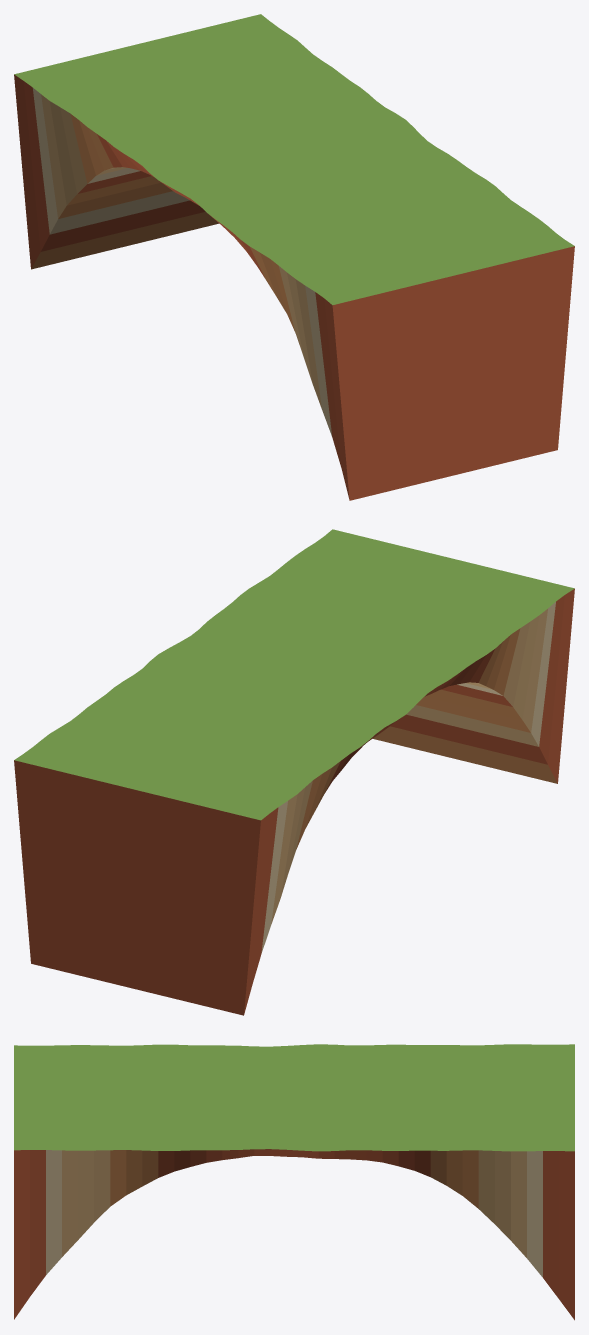
Rendered from ponte_01d0.glb.
3 renders of one model, top to bottom at view 1: azimuth 30°, elevation 25°; view 2: azimuth 150°, elevation 25°; view 3: azimuth 270°, elevation 25°, orthographic. The views are drawn at different scales.
Parts seen in each view (by area): view 1: ponte_01d0; view 2: ponte_01d0; view 3: ponte_01d0.
Boxes of the visible parts, left/top/right/bottom form: ponte_01d0: left=14, top=14, right=574, bottom=500; ponte_01d0: left=14, top=529, right=574, bottom=1015; ponte_01d0: left=14, top=1044, right=574, bottom=1320.
Bounding box in the file's own units: 65.14 × 50.17 × 144.
